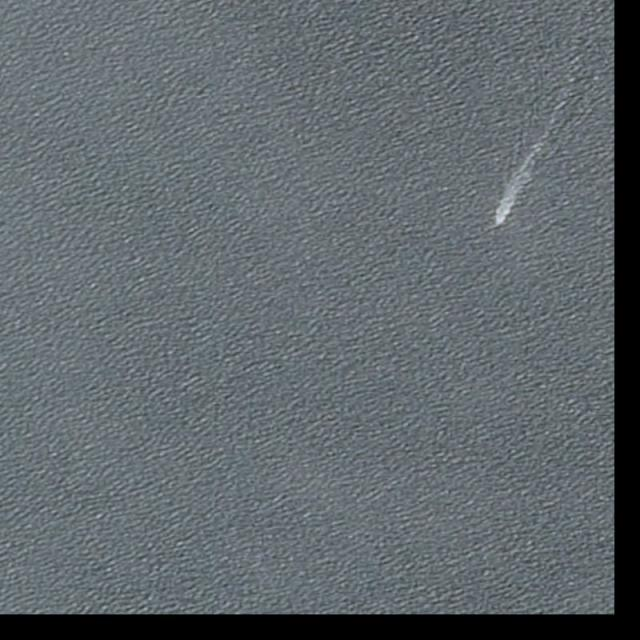ship: (494, 214, 504, 230)
